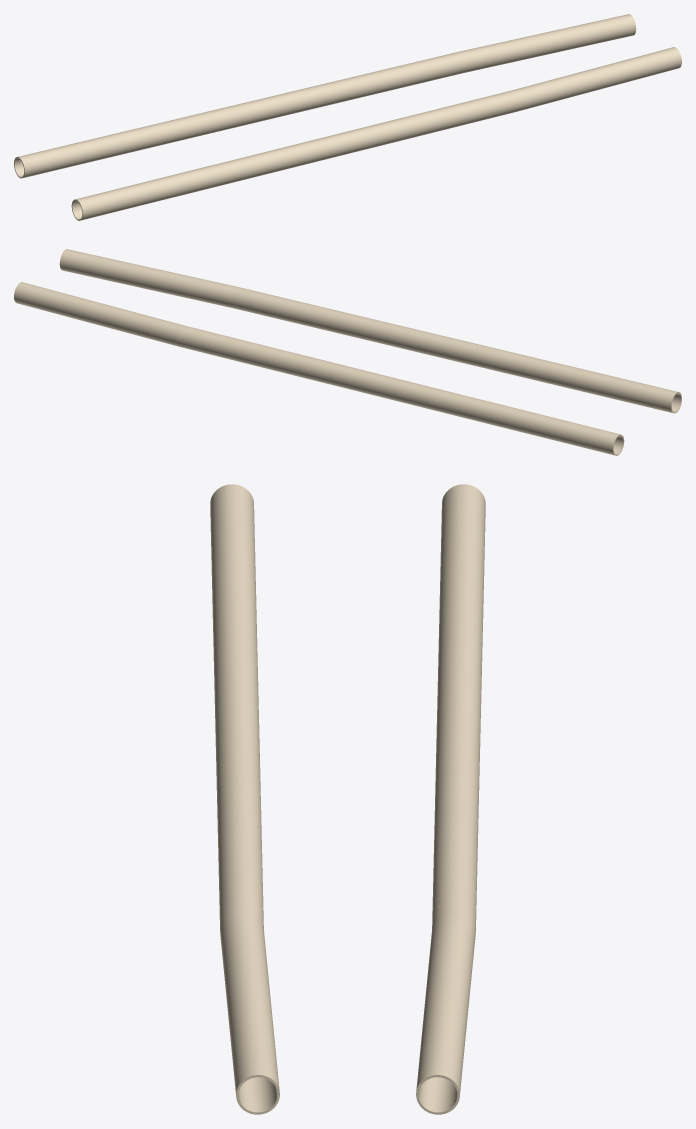
The model's file is BODY__INTERNALS__4_ ID wireway tubes.glb.
3 views of the same model, one above another, from view 1: azimuth 30°, elevation 25°; view 2: azimuth 150°, elevation 25°; view 3: azimuth 270°, elevation 25° (orthographic). The views are drawn at different scales.
Parts seen in each view (by area): view 1: 4" ID wireway tubes; view 2: 4" ID wireway tubes; view 3: 4" ID wireway tubes.
Boxes of the visible parts, bbox=[...] form: 4" ID wireway tubes: bbox=[14, 14, 681, 220]; 4" ID wireway tubes: bbox=[14, 249, 681, 455]; 4" ID wireway tubes: bbox=[210, 484, 485, 1114].
Bounding box in the file's own units: 3.65 × 0.1143 × 0.7183.
